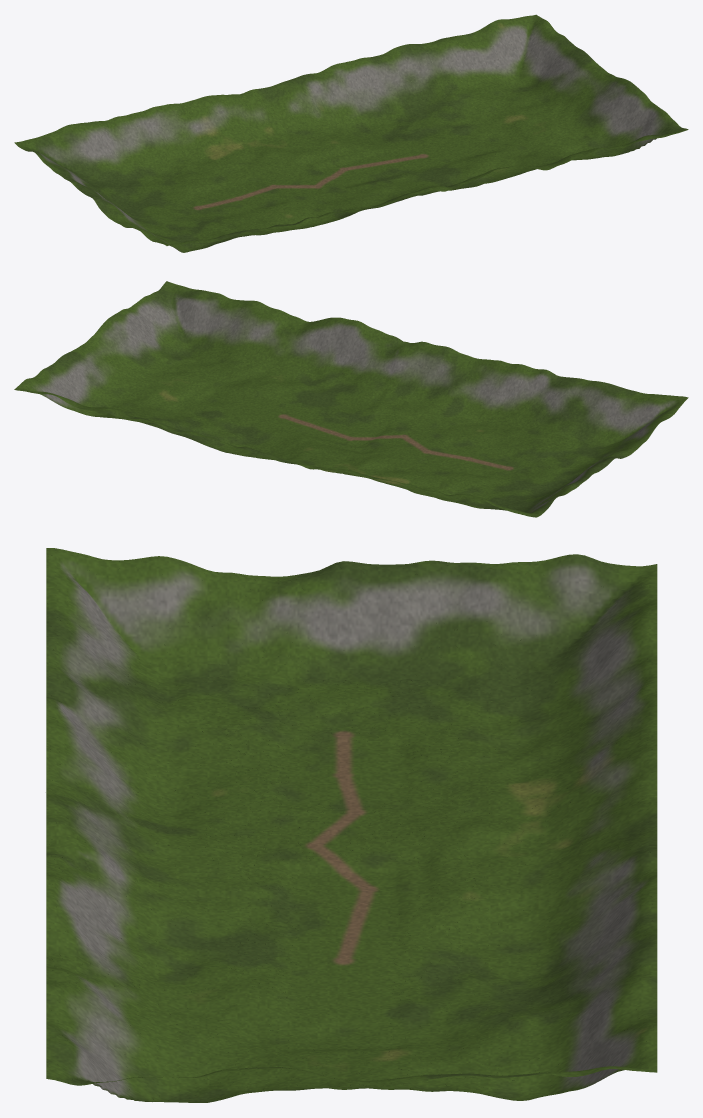
Rendered from SM_Art_Terrain_L_EthansGrove.gltf.
3 renders of one model, top to bottom at view 1: azimuth 30°, elevation 25°; view 2: azimuth 150°, elevation 25°; view 3: azimuth 270°, elevation 25°, orthographic. The views are drawn at different scales.
Visible parts, largest first — view 1: SM_Art_Terrain_L_EthansGrove; view 2: SM_Art_Terrain_L_EthansGrove; view 3: SM_Art_Terrain_L_EthansGrove.
Part boxes in pixels (box(x1,y1,x2,y2)): SM_Art_Terrain_L_EthansGrove: box(14, 14, 688, 252); SM_Art_Terrain_L_EthansGrove: box(14, 281, 688, 517); SM_Art_Terrain_L_EthansGrove: box(46, 548, 657, 1102).
Bounding box in the file's own units: 301 × 26.61 × 153.
2 materials, 2 textured.
